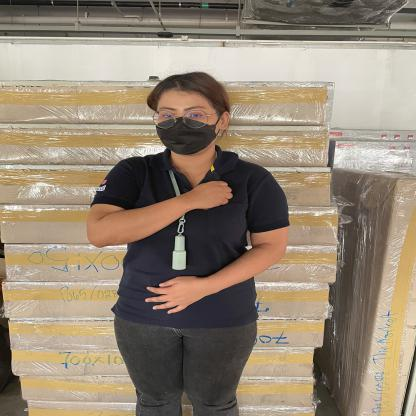Sadness: (91, 164, 245, 255)
